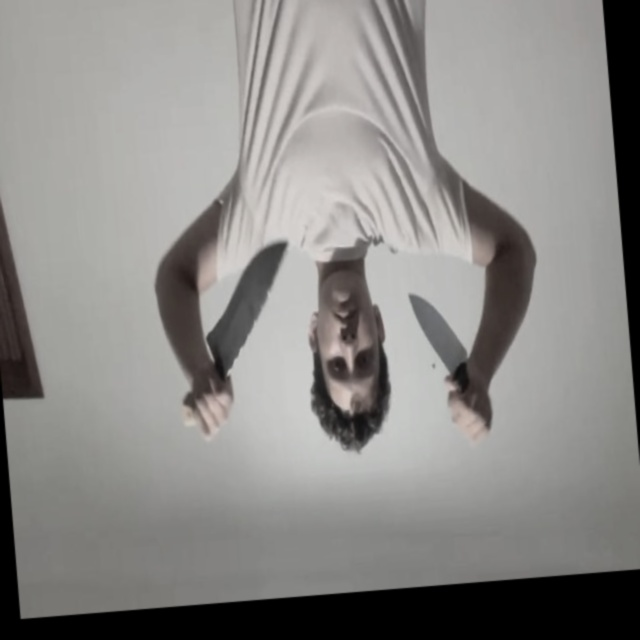Sharp-Object: (199, 242, 297, 376), (409, 294, 468, 378)
